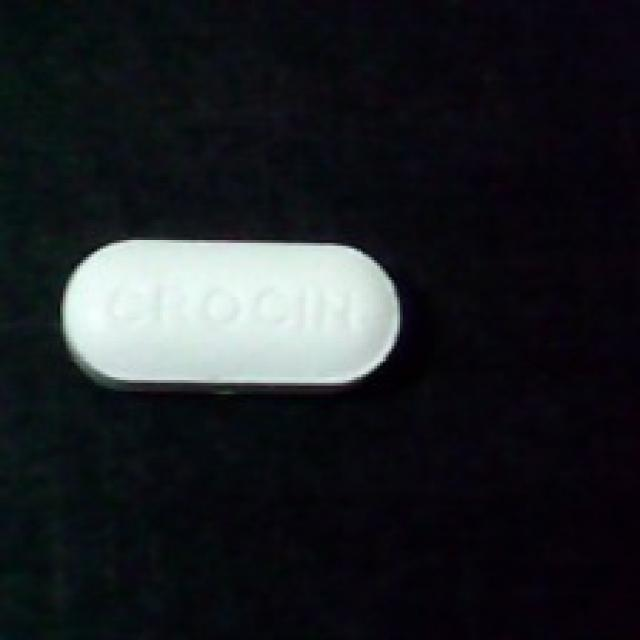no-defect: (57, 226, 409, 397)
